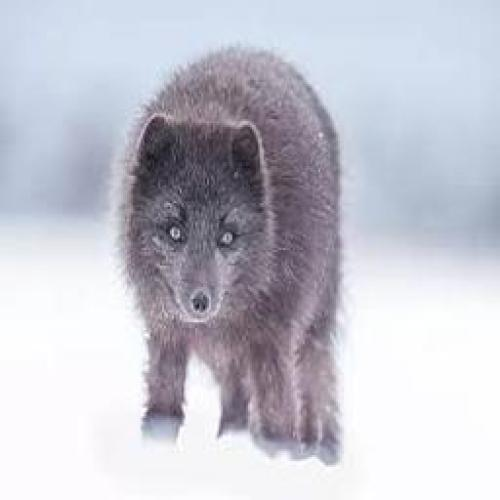arctic_fox-endangered: (120, 47, 343, 466)
